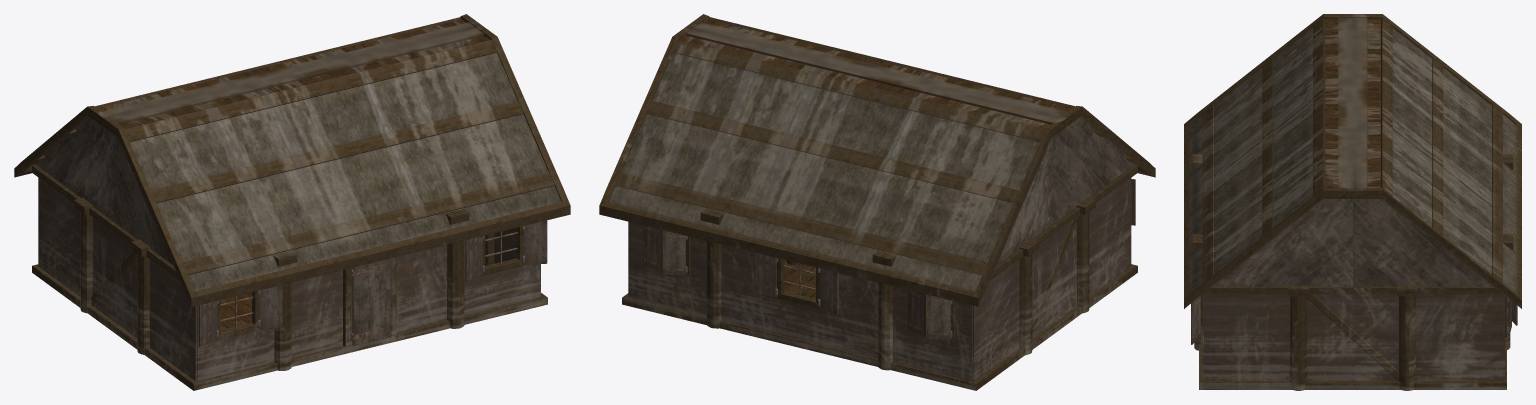
The model's file is wooden_shack.obj.
The picture shows the model from 3 angles, left to right: view 1: azimuth 30°, elevation 25°; view 2: azimuth 150°, elevation 25°; view 3: azimuth 270°, elevation 25°; orthographic projection. The views are drawn at different scales.
Visible parts, largest first — view 1: village_house_4, House_02_Door_01; view 2: village_house_4; view 3: village_house_4.
Boxes of the visible parts, x1=… form: village_house_4: x1=14, y1=14, x2=570, y2=390; House_02_Door_01: x1=351, y1=258, x2=391, y2=345; village_house_4: x1=599, y1=14, x2=1155, y2=390; village_house_4: x1=1184, y1=14, x2=1521, y2=390.
Bounding box in the file's own units: 8.49 × 4.63 × 6.86.
